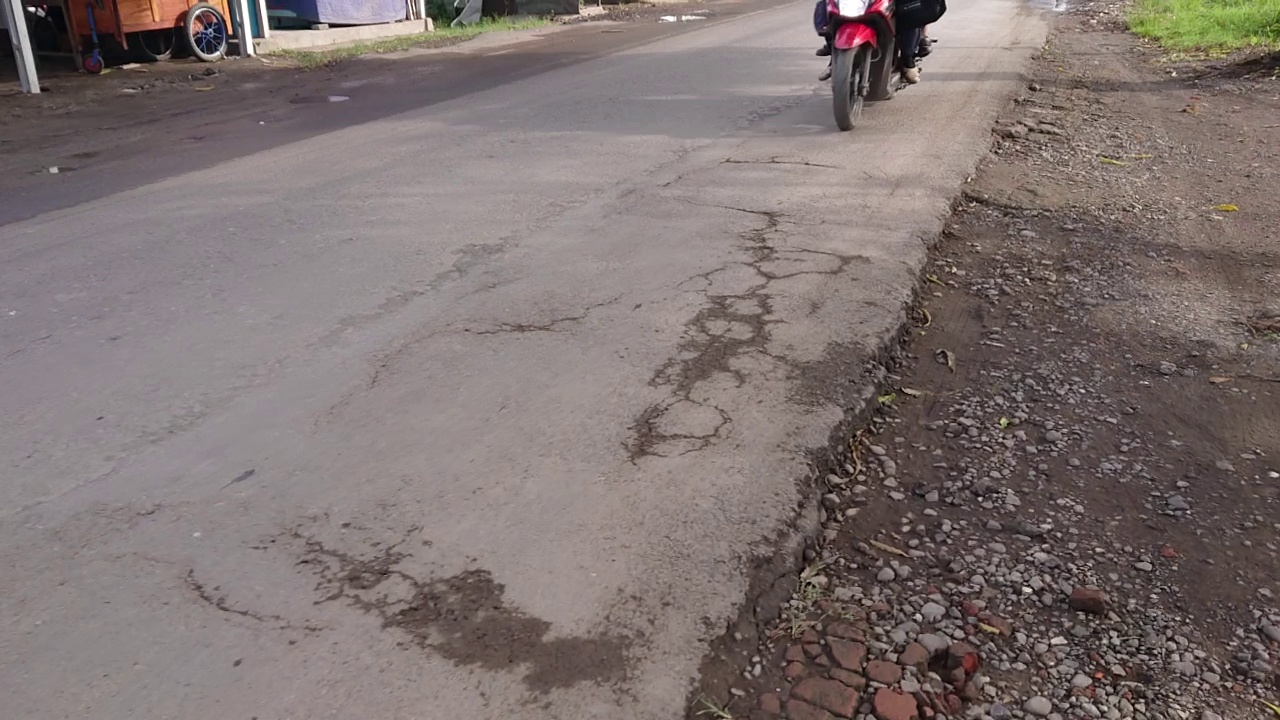Retak: (627, 210, 823, 465), (317, 537, 640, 687)
